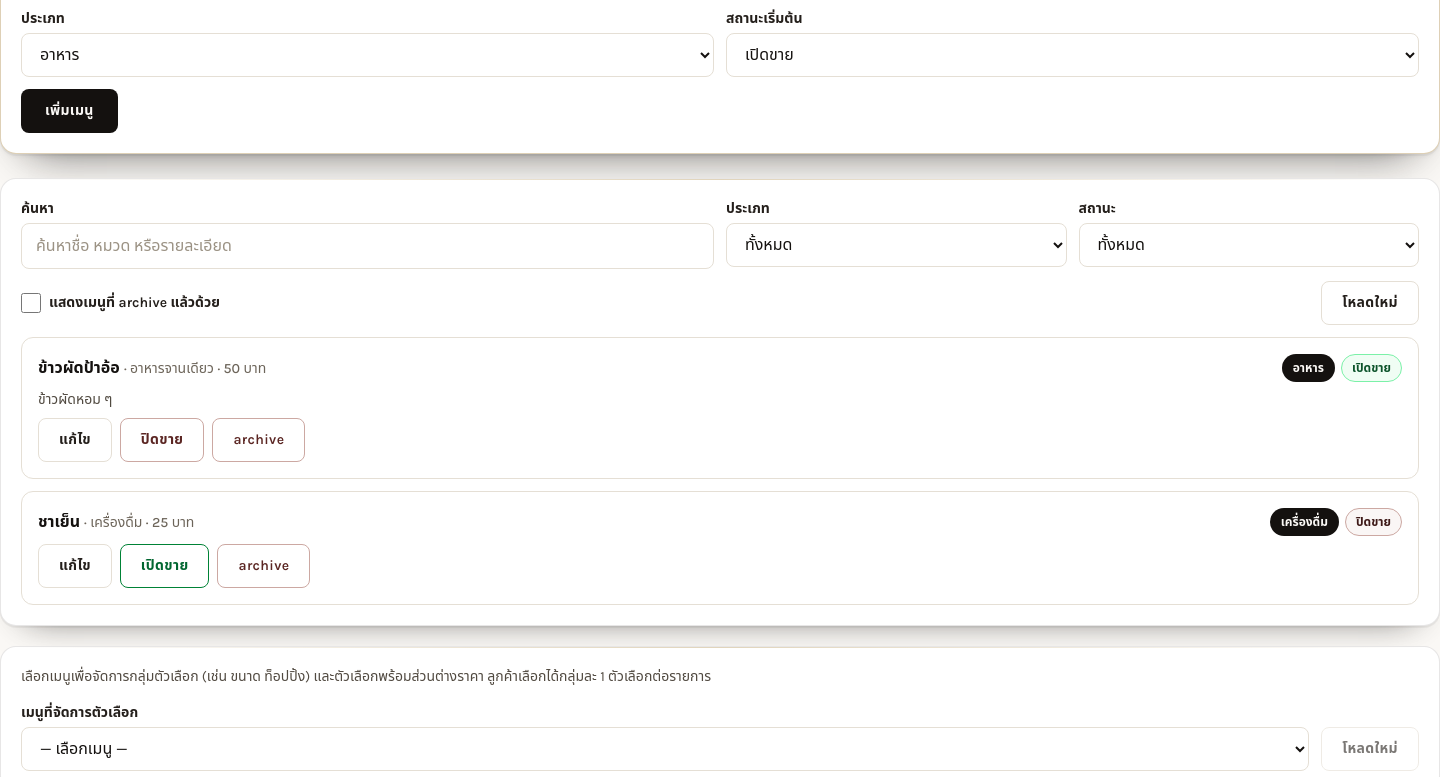
Test case: หน้าจัดการเมนู (Owner/Admin, Ticket 04) › ปิดขาย/เปิดขายสำเร็จแสดงข้อความสำเร็จ
(page scrolled)
Step 1. Click the button "ปิดขาย" → (162, 440), box [120,418,204,462]
(page scrolled)
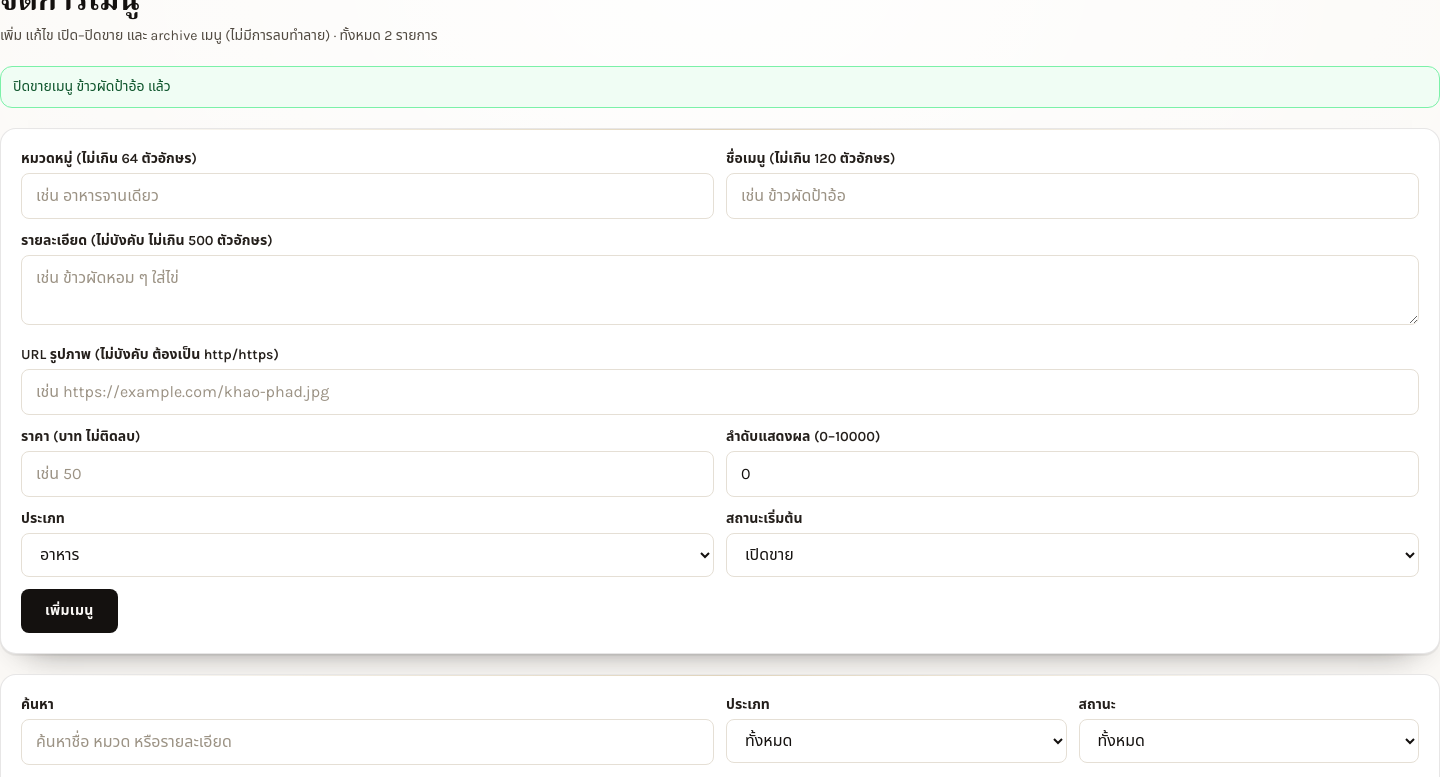
Now the message reads "ปิดขายเมนู ข้าวผัดป้าอ้อ แล้ว", box [13,78,171,94]
